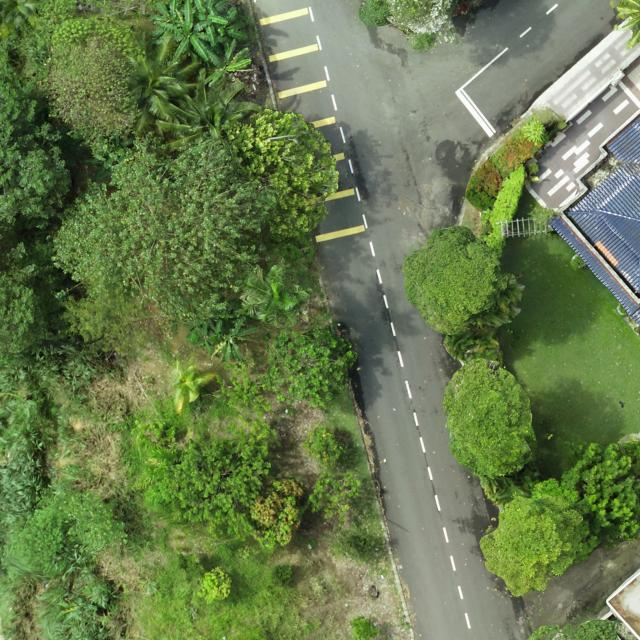banana_tree2: (155, 0, 212, 67), (209, 315, 261, 363), (203, 40, 253, 87), (198, 6, 250, 51), (192, 0, 232, 45), (184, 314, 232, 344)
tree: (49, 135, 278, 330), (133, 422, 308, 549), (478, 477, 603, 598), (224, 109, 338, 237), (0, 77, 75, 228), (442, 357, 535, 478), (401, 225, 501, 337), (44, 34, 140, 142), (17, 492, 133, 579), (57, 273, 165, 361), (122, 27, 204, 136), (0, 230, 69, 356), (558, 440, 640, 546), (156, 66, 256, 152), (264, 322, 359, 412), (231, 257, 313, 329), (210, 362, 281, 417), (469, 272, 528, 328), (308, 470, 364, 526), (168, 359, 216, 416), (442, 333, 506, 370), (302, 424, 348, 468), (199, 565, 233, 602)
